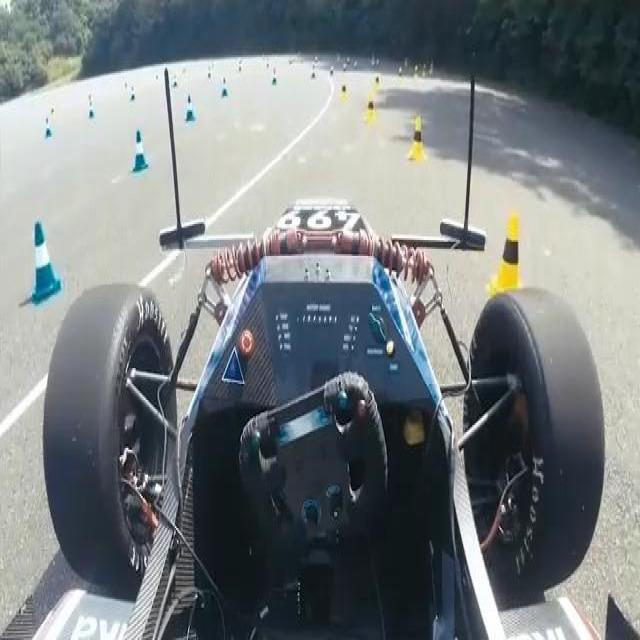blue_cone: (19, 215, 65, 303), (129, 128, 153, 173), (216, 70, 233, 104), (185, 91, 198, 128), (269, 62, 278, 88)
yellow_cone: (489, 201, 532, 302), (409, 112, 432, 173), (339, 80, 349, 103), (368, 101, 378, 115), (308, 62, 316, 78)
